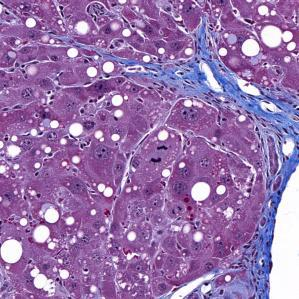fibrosis: (165, 56, 295, 128), (249, 171, 276, 291)
